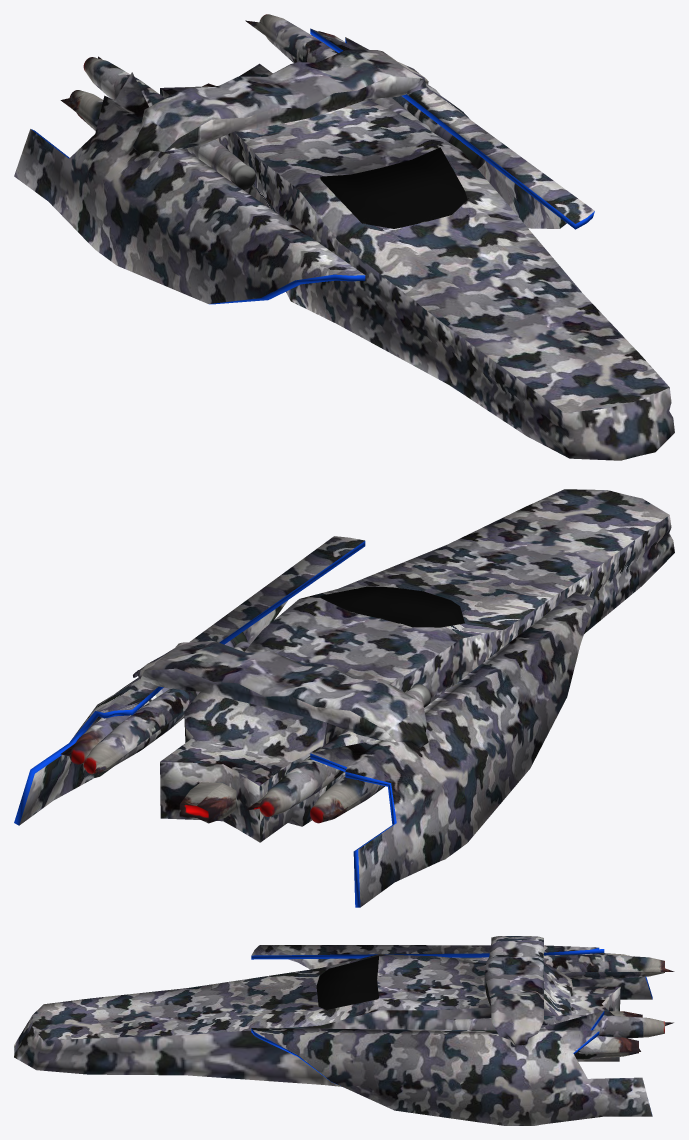
The model's file is noel.obj.
3 views of the same model, one above another, from view 1: azimuth 30°, elevation 25°; view 2: azimuth 150°, elevation 25°; view 3: azimuth 270°, elevation 25° (orthographic). The views are drawn at different scales.
Visible parts, largest first — view 1: Space_ship_Cube.002; view 2: Space_ship_Cube.002; view 3: Space_ship_Cube.002.
Boxes of the visible parts, x1=… form: Space_ship_Cube.002: x1=14, y1=14, x2=674, y2=460; Space_ship_Cube.002: x1=14, y1=489, x2=674, y2=907; Space_ship_Cube.002: x1=14, y1=936, x2=674, y2=1125.
Bounding box in the file's own units: 2.1 × 0.7918 × 4.82.
Materials: 1 (1 with a texture image).
